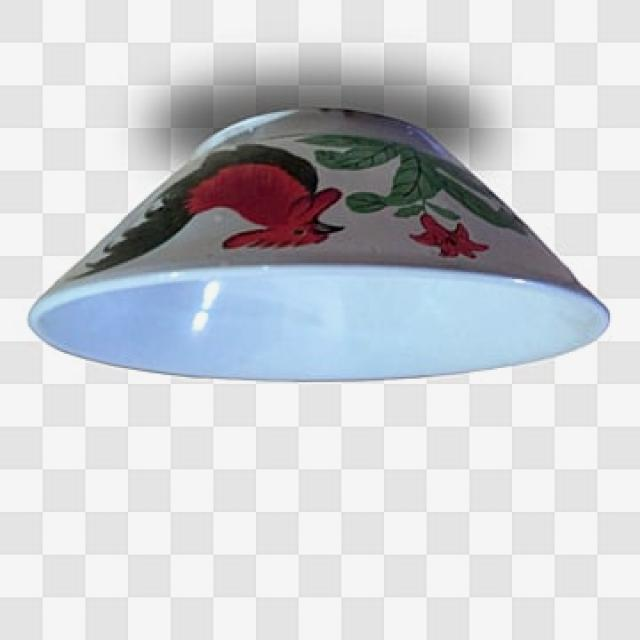Mangkok: (31, 81, 622, 428)
